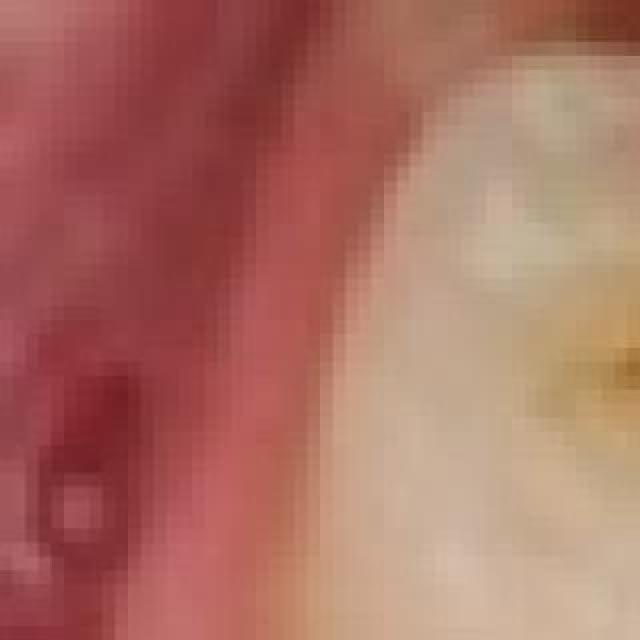calculus: (572, 16, 640, 150)
